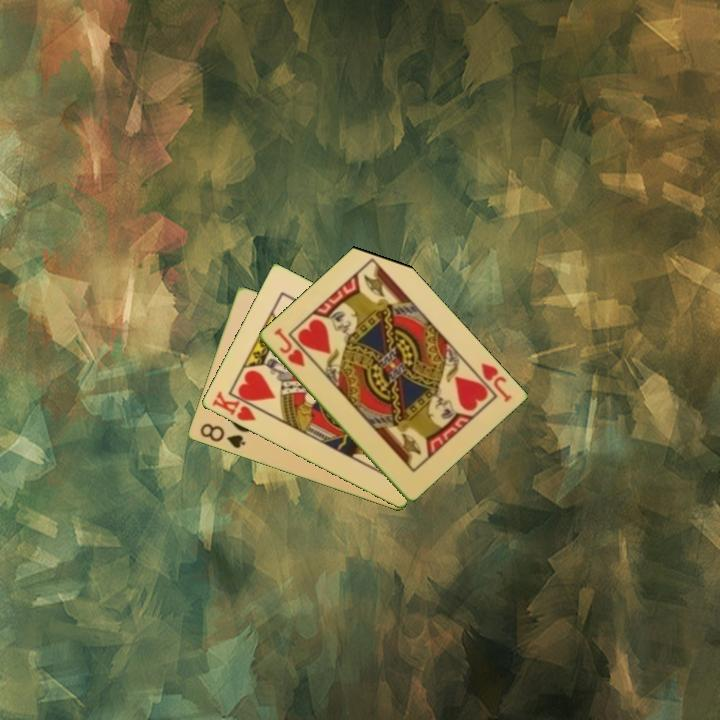8s: (196, 420, 248, 451)
Jh: (270, 324, 308, 370), (476, 359, 514, 405)
Kh: (208, 388, 266, 424)
